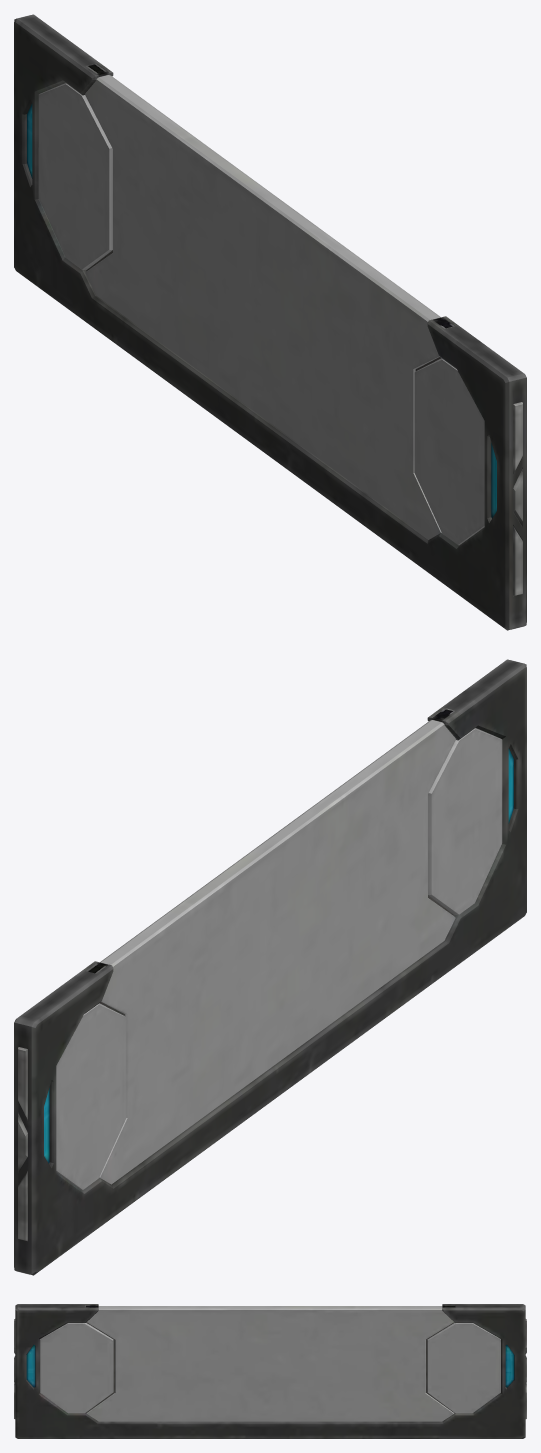
Rendered from SM_Fence_Ancient_e2b225.glb.
The picture shows the model from 3 angles, top to bottom: view 1: azimuth 30°, elevation 25°; view 2: azimuth 150°, elevation 25°; view 3: azimuth 270°, elevation 25°; orthographic projection. The views are drawn at different scales.
Size of the model in its own units: 0.1006 by 1.13 by 4.02.
Materials: 1 (1 with a texture image).
